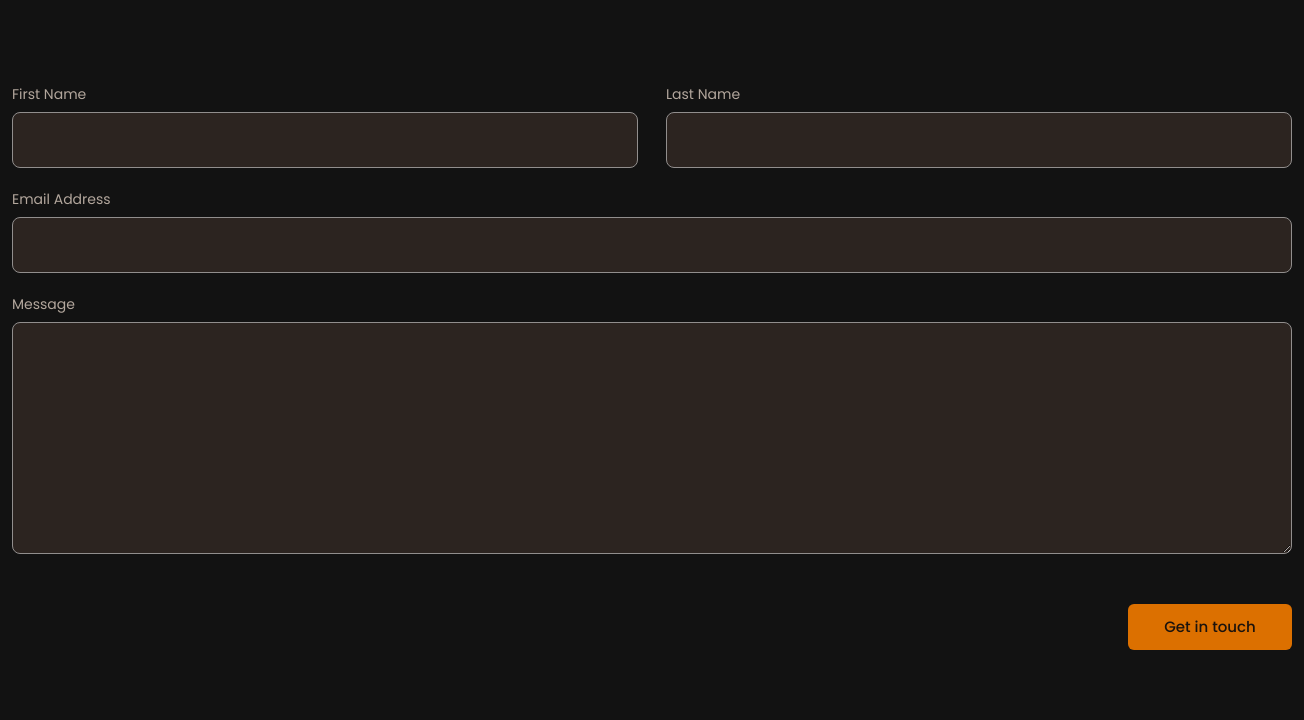
Test: ContactForm › shows the server's field errors in the current language
Type "Ada" into the field labelled "First Name".
click(325, 140); type("Ada")  # box [12,112,638,168]
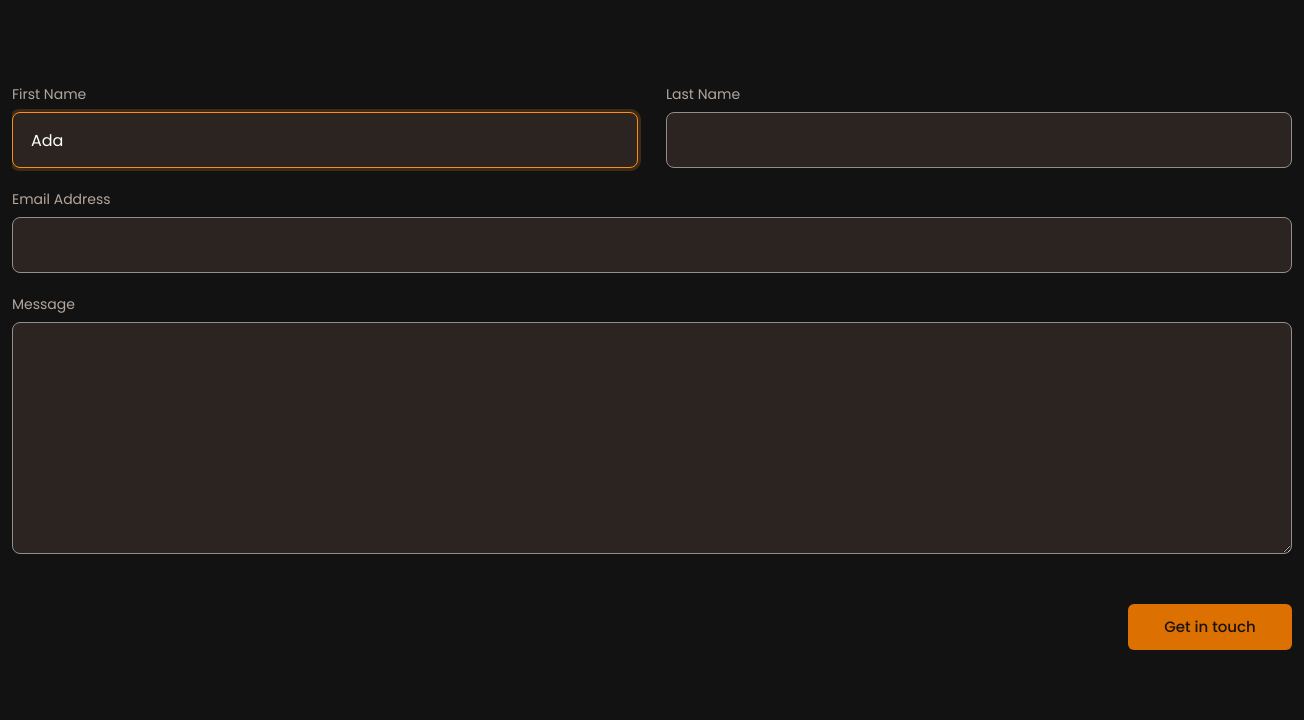
Type "Lovelace" into the field labelled "Last Name".
click(979, 140); type("Lovelace")  # box [666,112,1292,168]
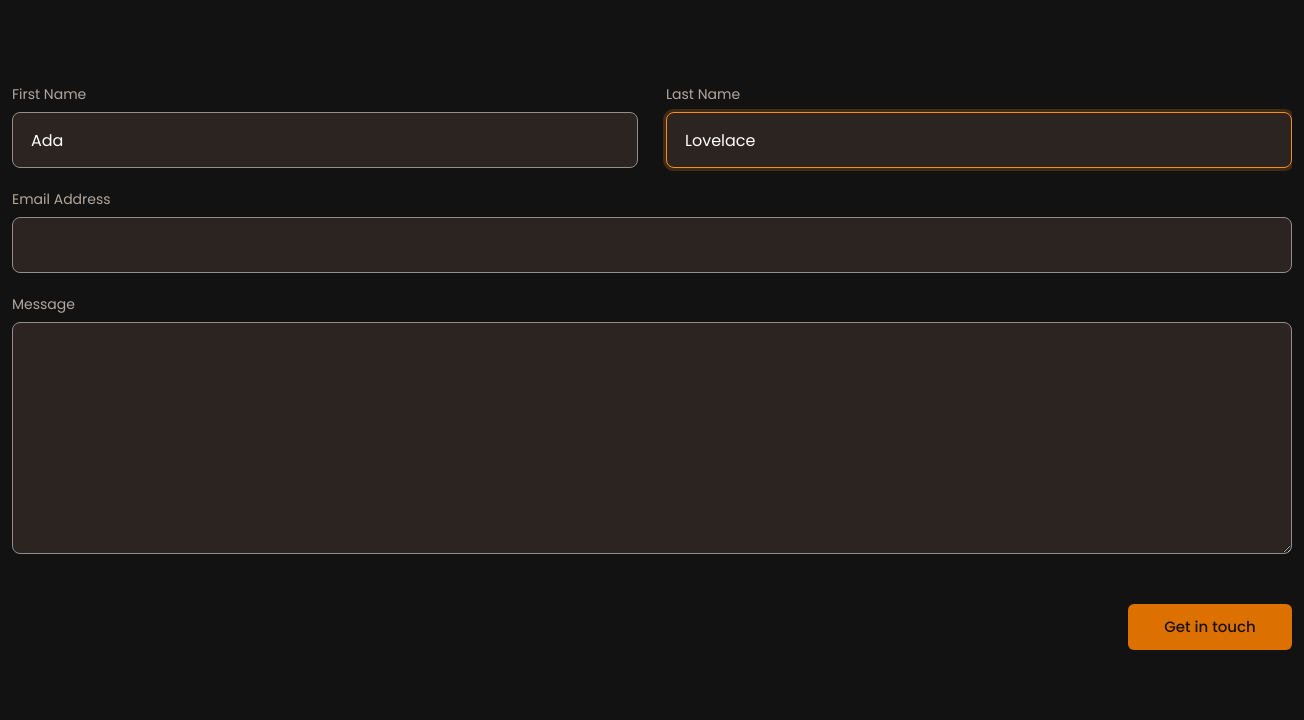
Type "ada@example.com" into the field labelled "Email Address".
click(652, 245); type("ada@example.com")  # box [12,217,1292,273]
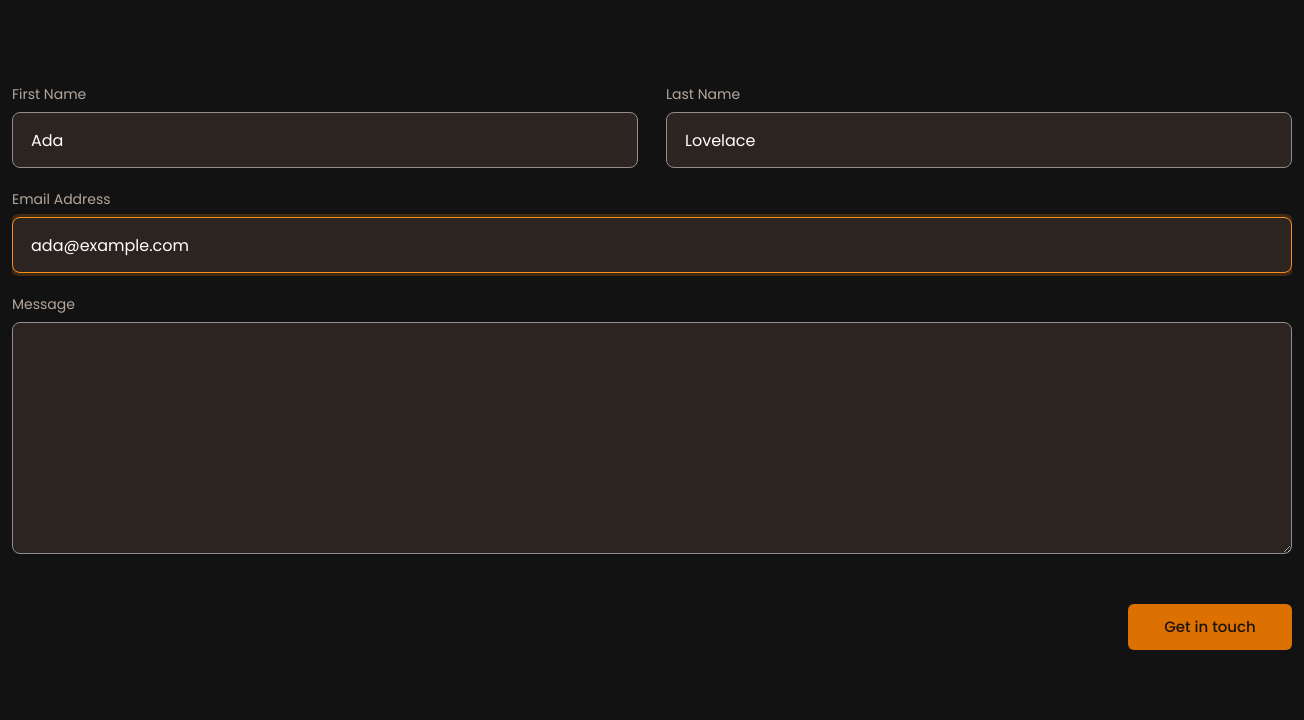
Type "Hello, I would like to talk about a project." into the text box labelled "Message".
click(652, 438); type("Hello, I would like to talk about a project.")  # box [12,322,1292,554]
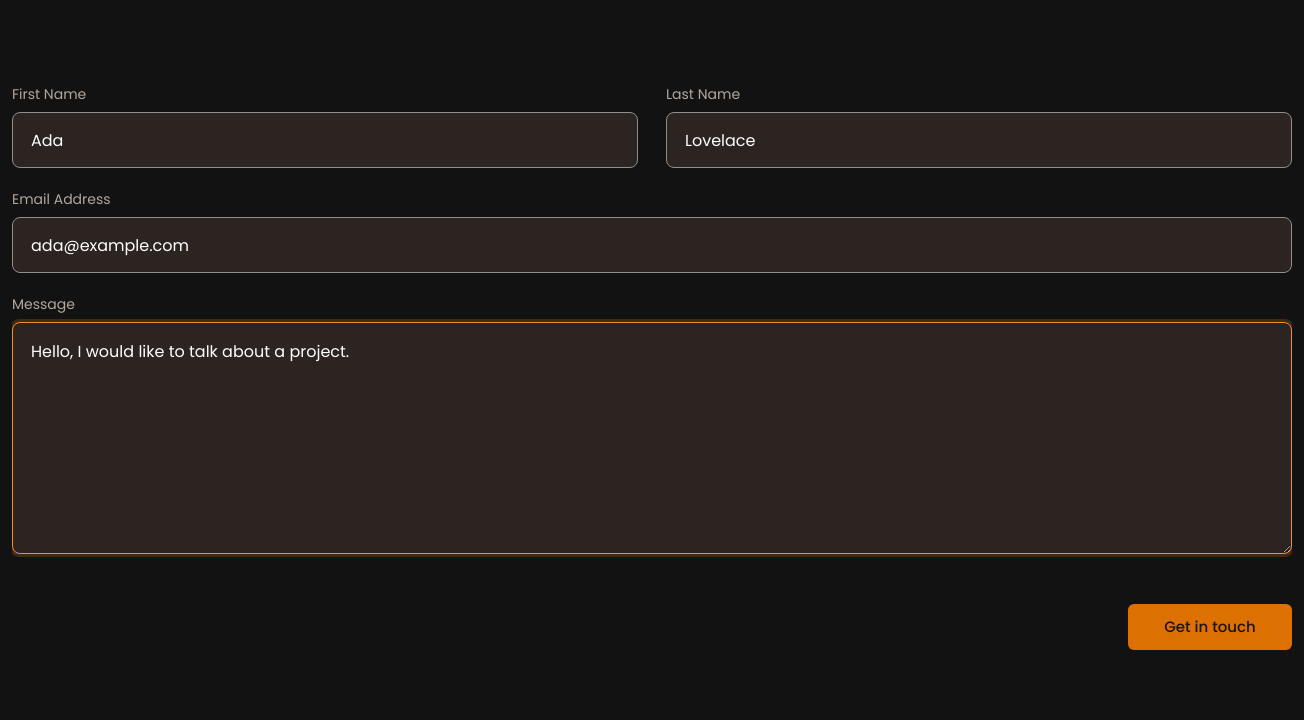
Click the button "Get in touch".
click(1210, 627)  # box [1128,604,1292,650]
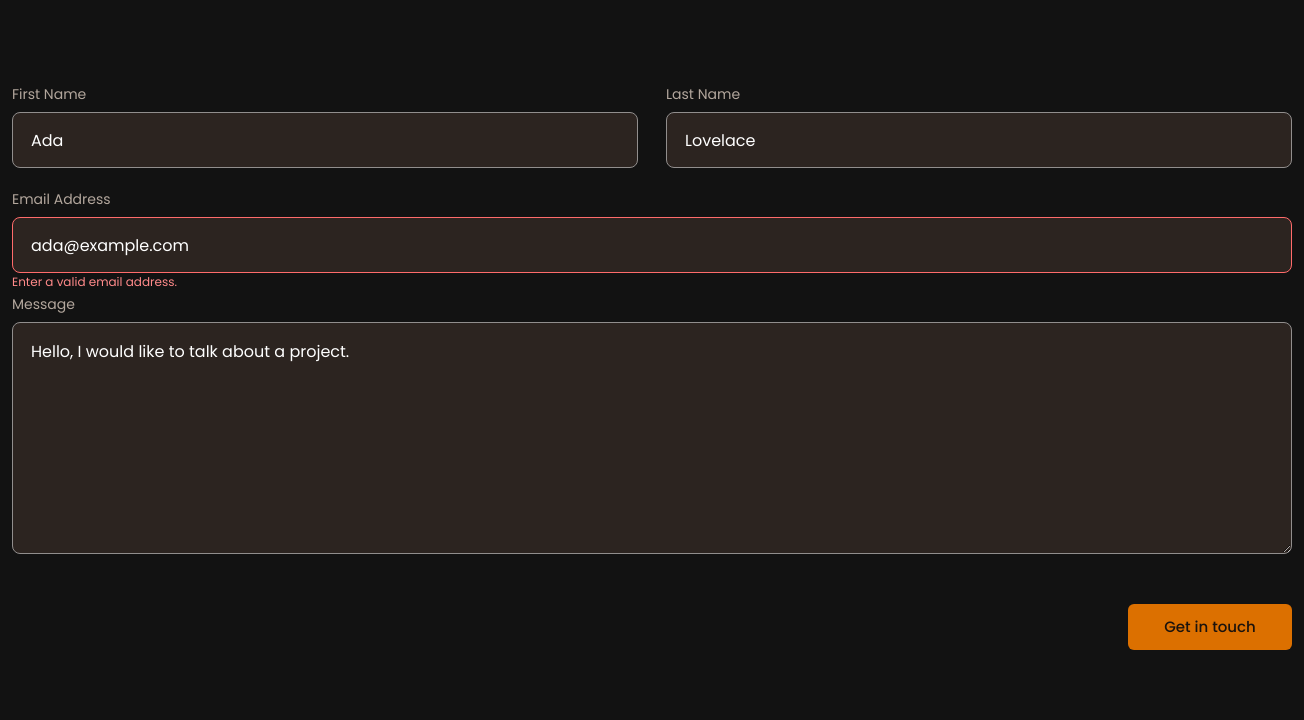
Check: the text "Enter a valid email address." is shown, box [12,275,177,289]
